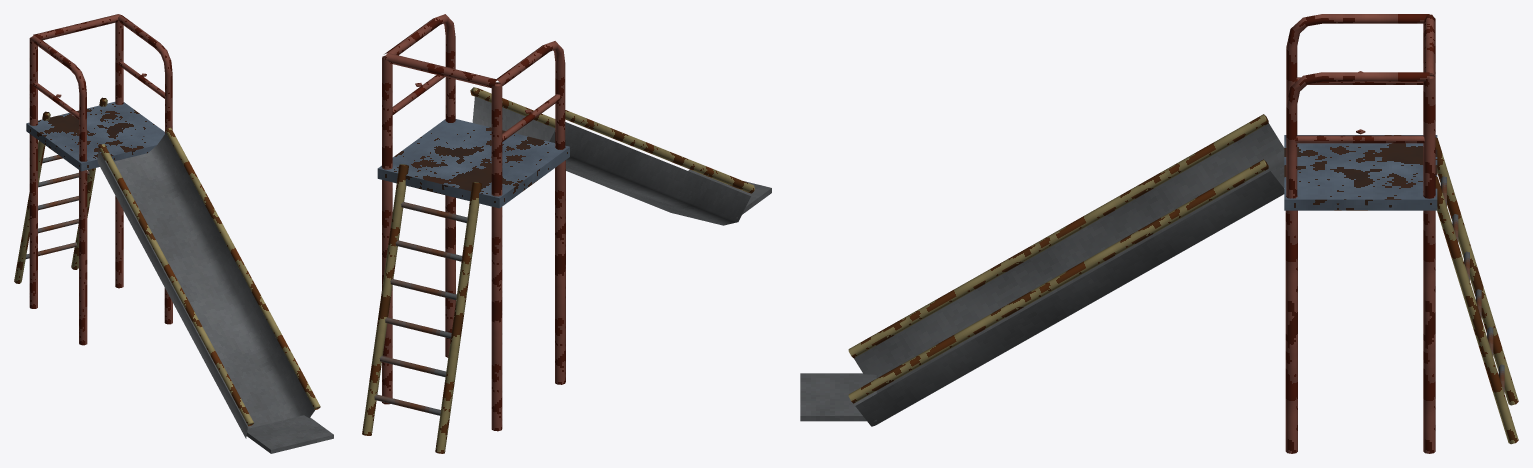
The model's file is slide.glb.
The picture shows the model from 3 angles, left to right: view 1: azimuth 30°, elevation 25°; view 2: azimuth 150°, elevation 25°; view 3: azimuth 270°, elevation 25°; orthographic projection. The views are drawn at different scales.
Visible parts, largest first — view 1: frame-col; view 2: frame-col; view 3: frame-col.
Boxes of the visible parts, <box> form: frame-col: <box>14,14,333,453</box>; frame-col: <box>362,14,771,453</box>; frame-col: <box>800,14,1518,453</box>.
Size of the model in its own units: 1 by 2.74 by 4.7.
5 materials, 5 textured.
